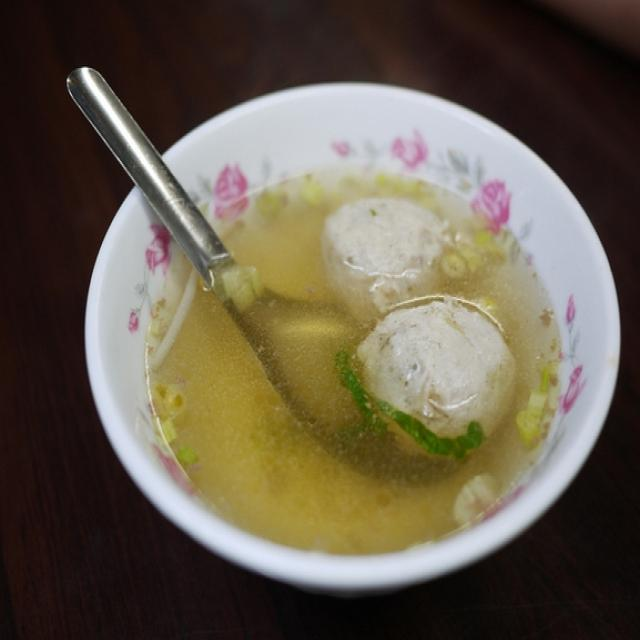熟制海鲜: (110, 77, 589, 554)
